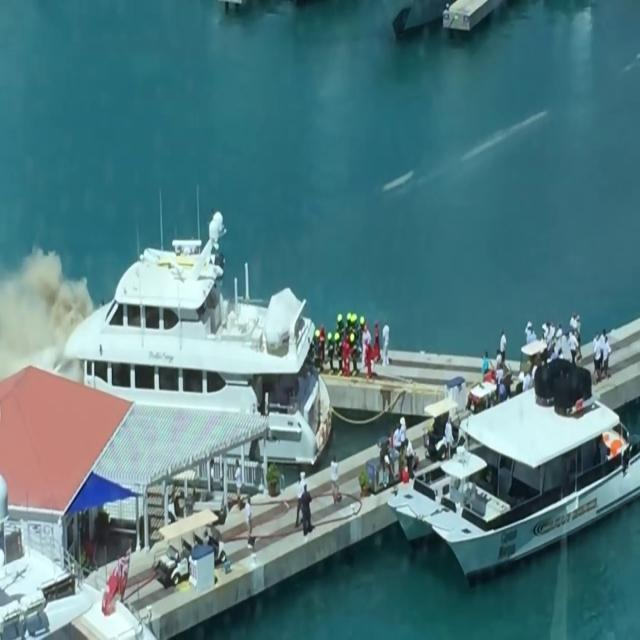Smoke: (0, 226, 98, 378)
